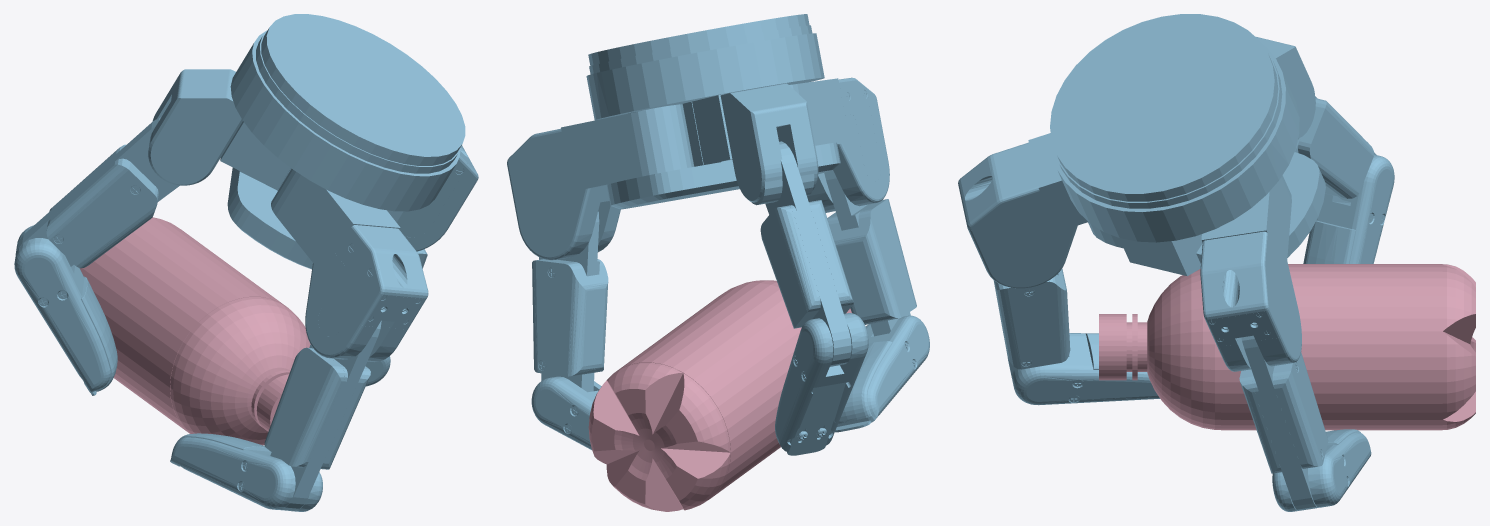
The model's file is Barrett_contactdb+water_bottle_mesh.glb.
3 views of the same model, side by side, from view 1: azimuth 30°, elevation 25°; view 2: azimuth 150°, elevation 25°; view 3: azimuth 270°, elevation 25° (orthographic). The views are drawn at different scales.
Parts seen in each view (by area): view 1: world; view 2: world; view 3: world.
Boxes of the visible parts, box(x1,y1,x2,y2) form: world: box(14, 14, 478, 511); world: box(507, 14, 929, 511); world: box(958, 14, 1475, 511).
Bounding box in the file's own units: 0.1753 × 0.1769 × 0.1875.
